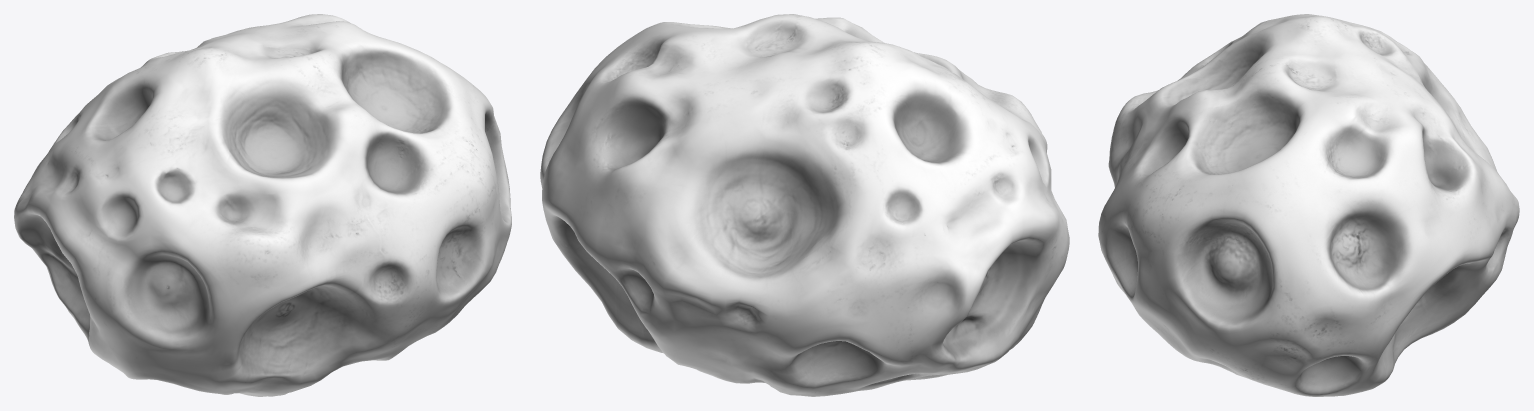
Rendered from Asteroid_2b.glb.
3 renders of one model, left to right at view 1: azimuth 30°, elevation 25°; view 2: azimuth 150°, elevation 25°; view 3: azimuth 270°, elevation 25°, orthographic. The views are drawn at different scales.
Parts seen in each view (by area): view 1: Asteroid_2b; view 2: Asteroid_2b; view 3: Asteroid_2b.
Boxes of the visible parts, left/top/right/bottom form: Asteroid_2b: left=14, top=14, right=511, bottom=396; Asteroid_2b: left=540, top=14, right=1069, bottom=396; Asteroid_2b: left=1098, top=14, right=1519, bottom=396.
Bounding box in the file's own units: 2.3 × 1.61 × 1.94.
Materials: 1 (1 with a texture image).
